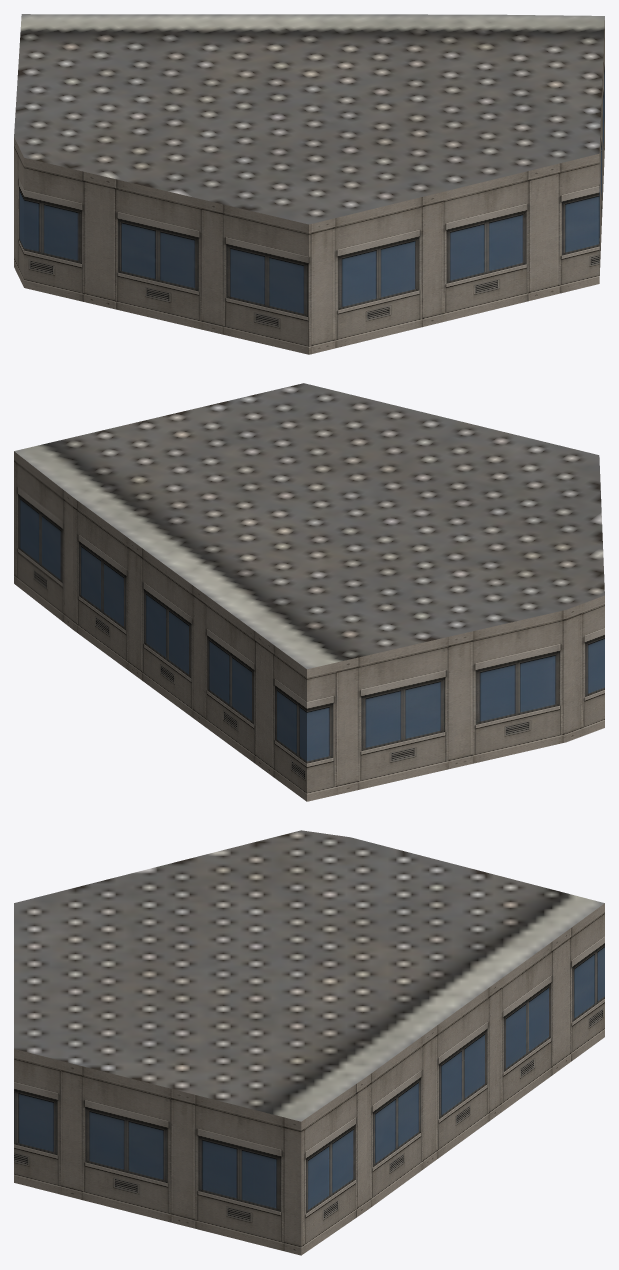
File: building_light_a_60.glb
3 renders of one model, top to bottom at view 1: azimuth 30°, elevation 25°; view 2: azimuth 150°, elevation 25°; view 3: azimuth 270°, elevation 25°, orthographic. The views are drawn at different scales.
Visible parts, largest first — view 1: buildings/saxarba/building_light/building_light_a_60; view 2: buildings/saxarba/building_light/building_light_a_60; view 3: buildings/saxarba/building_light/building_light_a_60.
Part boxes in pixels (bbox=[...]): buildings/saxarba/building_light/building_light_a_60: bbox=[14, 14, 604, 354]; buildings/saxarba/building_light/building_light_a_60: bbox=[14, 383, 604, 801]; buildings/saxarba/building_light/building_light_a_60: bbox=[14, 830, 604, 1255].
Bounding box in the file's own units: 84 × 18 × 72.
